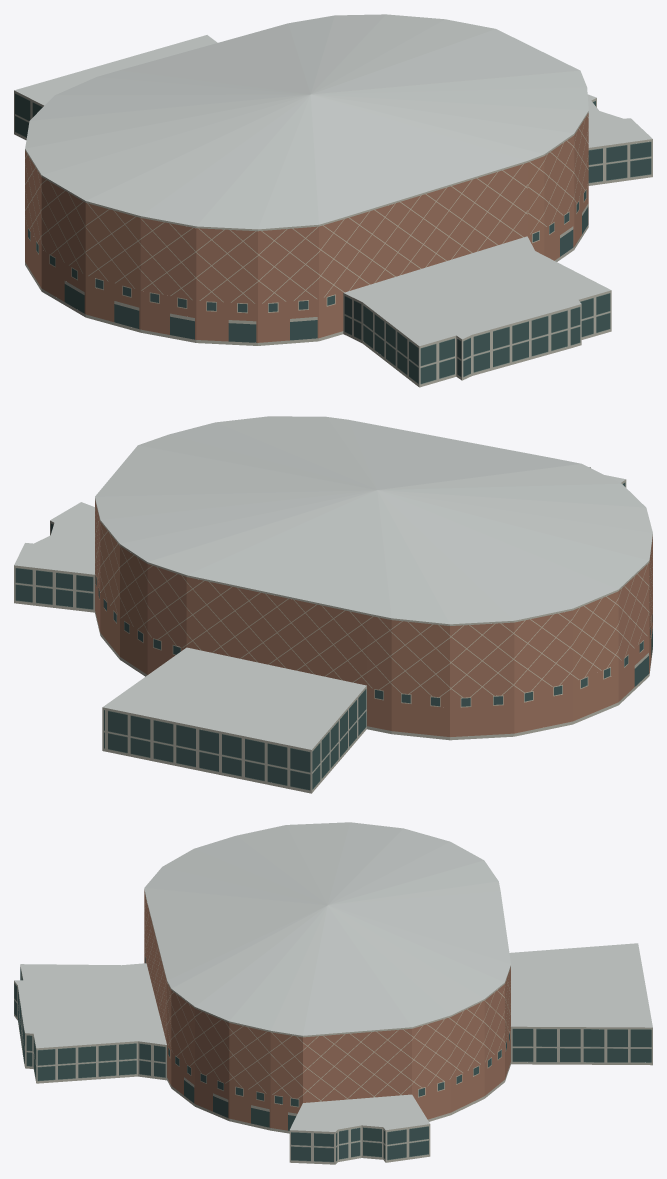
Rendered from north-charleston-coliseum-far.glb.
The picture shows the model from 3 angles, top to bottom: view 1: azimuth 30°, elevation 25°; view 2: azimuth 150°, elevation 25°; view 3: azimuth 270°, elevation 25°; orthographic projection. The views are drawn at different scales.
Parts seen in each view (by area): view 1: north-charleston-coliseum-0-roof, north-charleston-coliseum-0-brick, north-charleston-coliseum-0-glass, north-charleston-coliseum-0-stone, north-charleston-coliseum-0-mortar, north-charleston-coliseum-0-frame; view 2: north-charleston-coliseum-0-roof, north-charleston-coliseum-0-brick, north-charleston-coliseum-0-glass, north-charleston-coliseum-0-stone, north-charleston-coliseum-0-mortar, north-charleston-coliseum-0-frame; view 3: north-charleston-coliseum-0-roof, north-charleston-coliseum-0-brick, north-charleston-coliseum-0-glass, north-charleston-coliseum-0-stone, north-charleston-coliseum-0-mortar, north-charleston-coliseum-0-frame.
Part boxes in pixels (x1,y1,x2,y2): north-charleston-coliseum-0-roof: [14, 14, 652, 346]; north-charleston-coliseum-0-brick: [25, 113, 588, 342]; north-charleston-coliseum-0-glass: [15, 94, 651, 383]; north-charleston-coliseum-0-stone: [14, 90, 652, 387]; north-charleston-coliseum-0-mortar: [25, 115, 588, 313]; north-charleston-coliseum-0-frame: [15, 93, 651, 384]; north-charleston-coliseum-0-roof: [14, 416, 652, 749]; north-charleston-coliseum-0-brick: [95, 500, 652, 736]; north-charleston-coliseum-0-glass: [15, 483, 652, 789]; north-charleston-coliseum-0-stone: [14, 467, 652, 793]; north-charleston-coliseum-0-mortar: [95, 506, 652, 707]; north-charleston-coliseum-0-frame: [16, 482, 624, 790]; north-charleston-coliseum-0-roof: [14, 822, 652, 1131]; north-charleston-coliseum-0-brick: [144, 890, 510, 1130]; north-charleston-coliseum-0-glass: [14, 957, 651, 1161]; north-charleston-coliseum-0-stone: [14, 889, 652, 1164]; north-charleston-coliseum-0-mortar: [144, 893, 510, 1107]; north-charleston-coliseum-0-frame: [14, 983, 651, 1162].
Bounding box in the file's own units: 135 × 32.2 × 151.
